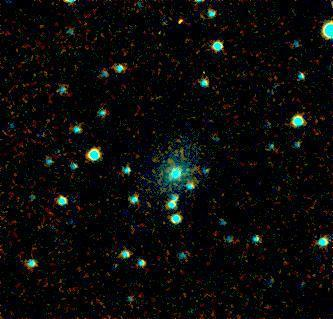star: (166, 7, 196, 37)
